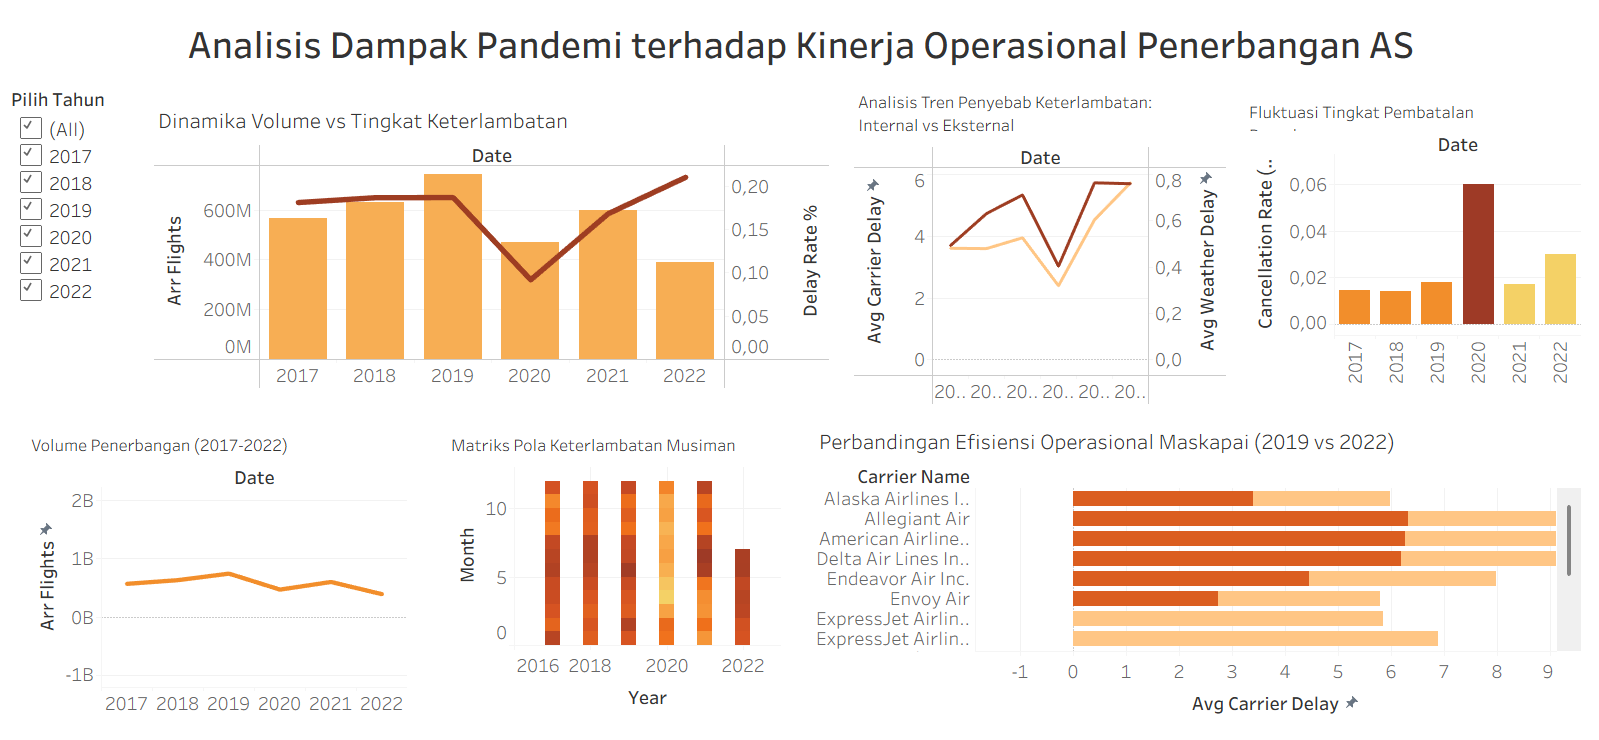

The dashboard page shown, as its layout file describes it:
{"tool":"tableau","page":{"name":"Analisis Dampak Pandemi terhadap Kinerja Operasional Penerbangan AS","canvas":[1000,1000],"units":"permille","ordinal":0},"visuals":[{"type":"title","box":[5,10.7,990,101.9]},{"type":"filter","title":"Dinamika Volume vs Tingkat Keterlambatan","param":"[federated.1y4n8um10jzi201185jvy14xrl0z].[yr:Date:ok]","box":[5,112.6,79.2,438.3]},{"type":"worksheet","title":"Dinamika Volume vs Tingkat Keterlambatan","mark":"Automatic","rows":["arr_flights","Calculation_1401745394076590082"],"cols":["Date"],"box":[84.2,112.6,446.4,438.3]},{"type":"worksheet","title":"Analisis Tren Penyebab Keterlambatan: Internal vs Eksternal","mark":"Line","rows":["Calculation_1401745394076823556","Calculation_1401745394084167687"],"cols":["Date"],"box":[530.5,112.6,237.5,438.3]},{"type":"worksheet","title":"Fluktuasi Tingkat Pembatalan Penerbangan","mark":"Bar","rows":["Calculation_1401745394076692483"],"cols":["Date"],"box":[768.1,112.6,226.9,438.3]},{"type":"worksheet","title":"Volume Penerbangan (2017-2022)","mark":"Automatic","rows":["arr_flights"],"cols":["Date"],"box":[5,550.9,261.8,438.4]},{"type":"worksheet","title":"Matriks Pola Keterlambatan Musiman","mark":"Bar","rows":["month"],"cols":["year"],"box":[266.8,550.9,233.2,438.4]},{"type":"worksheet","title":"Perbandingan Efisiensi Operasional Maskapai (2019 vs 2022)","mark":"Bar","rows":["carrier_name"],"cols":["Calculation_1401745394076823556"],"box":[500,550.9,495,438.4]}]}

Visuals, with their boxes on the dashboard's canvas, which has no fixed pixel size, in thousandths of its width and height (x1, y1, x2, y2). These are canvas units, not pixel positions in the 1599x740 screenshot, which may show the page scaled, cropped or inside an application window:
title: <box>5,11,995,113</box>
"Dinamika Volume vs Tingkat Keterlambatan" filter: <box>5,113,84,551</box>
"Dinamika Volume vs Tingkat Keterlambatan" worksheet: <box>84,113,531,551</box>
"Analisis Tren Penyebab Keterlambatan: Internal vs Eksternal" worksheet (Line marks): <box>530,113,768,551</box>
"Fluktuasi Tingkat Pembatalan Penerbangan" worksheet (Bar marks): <box>768,113,995,551</box>
"Volume Penerbangan (2017-2022)" worksheet: <box>5,551,267,989</box>
"Matriks Pola Keterlambatan Musiman" worksheet (Bar marks): <box>267,551,500,989</box>
"Perbandingan Efisiensi Operasional Maskapai (2019 vs 2022)" worksheet (Bar marks): <box>500,551,995,989</box>
